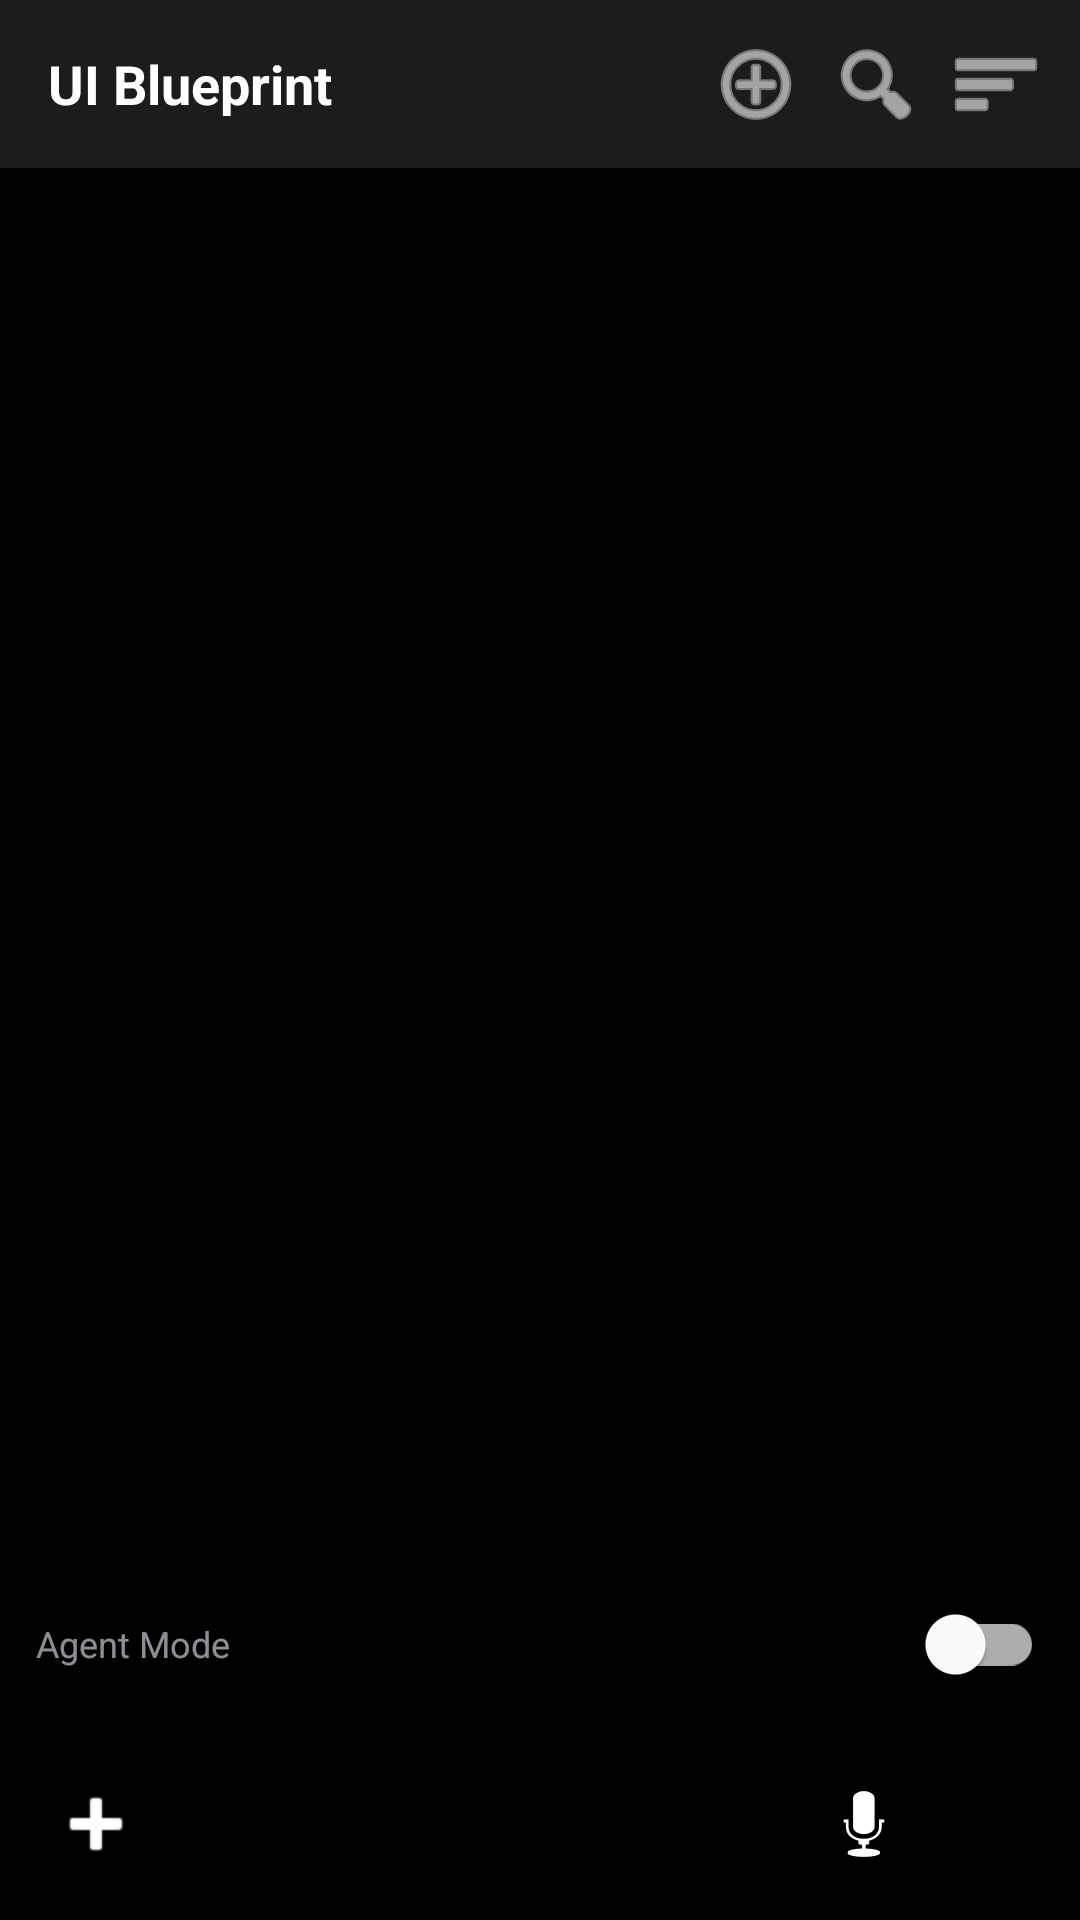

Screen size 1080px x 1920px. Icon name, then its box in pixels as (x1, y1, x2, y2):
Attach: (69, 1797, 123, 1851)
New Chat: (720, 49, 792, 120)
Voice input: (843, 1791, 885, 1857)
